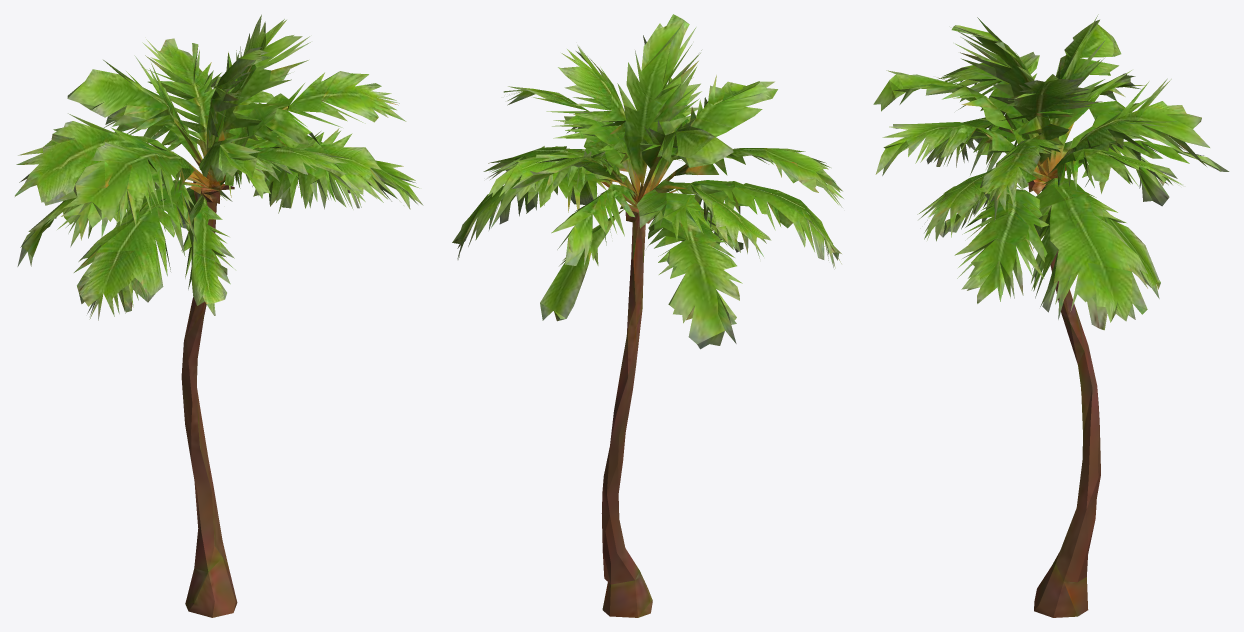
The model's file is palm.glb.
3 views of the same model, side by side, from view 1: azimuth 30°, elevation 25°; view 2: azimuth 150°, elevation 25°; view 3: azimuth 270°, elevation 25° (orthographic). The views are drawn at different scales.
Visible parts, largest first — view 1: output_unwrapped; view 2: output_unwrapped; view 3: output_unwrapped.
Boxes of the visible parts, x1,y1,x2,y2 form: output_unwrapped: (15,14,423,617); output_unwrapped: (452,14,843,617); output_unwrapped: (873,14,1229,617).
Size of the model in its own units: 1.24 by 1.9 by 1.05.
1 material, 1 textured.
